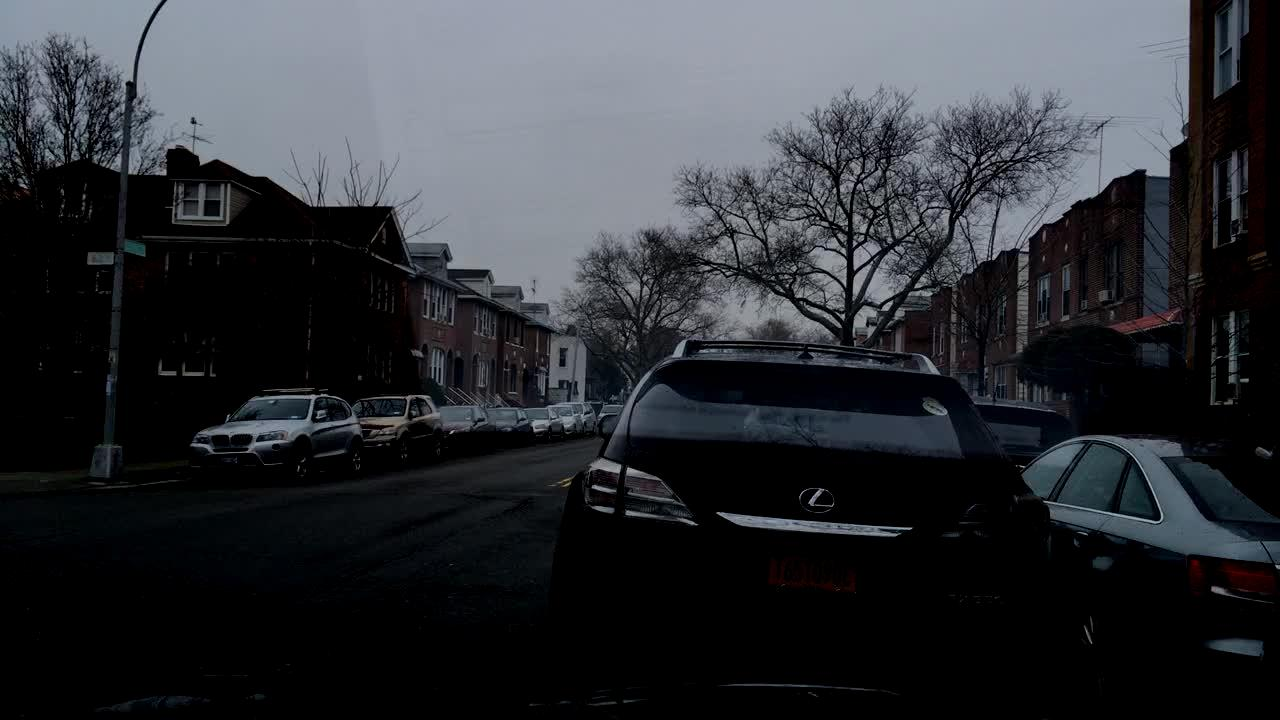lexus: (783, 473, 855, 526)
